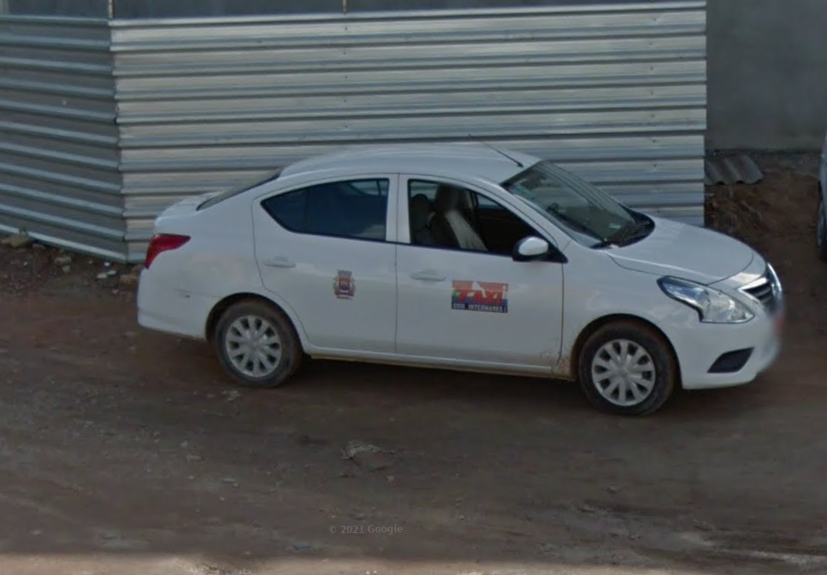car: (128, 129, 789, 416)
